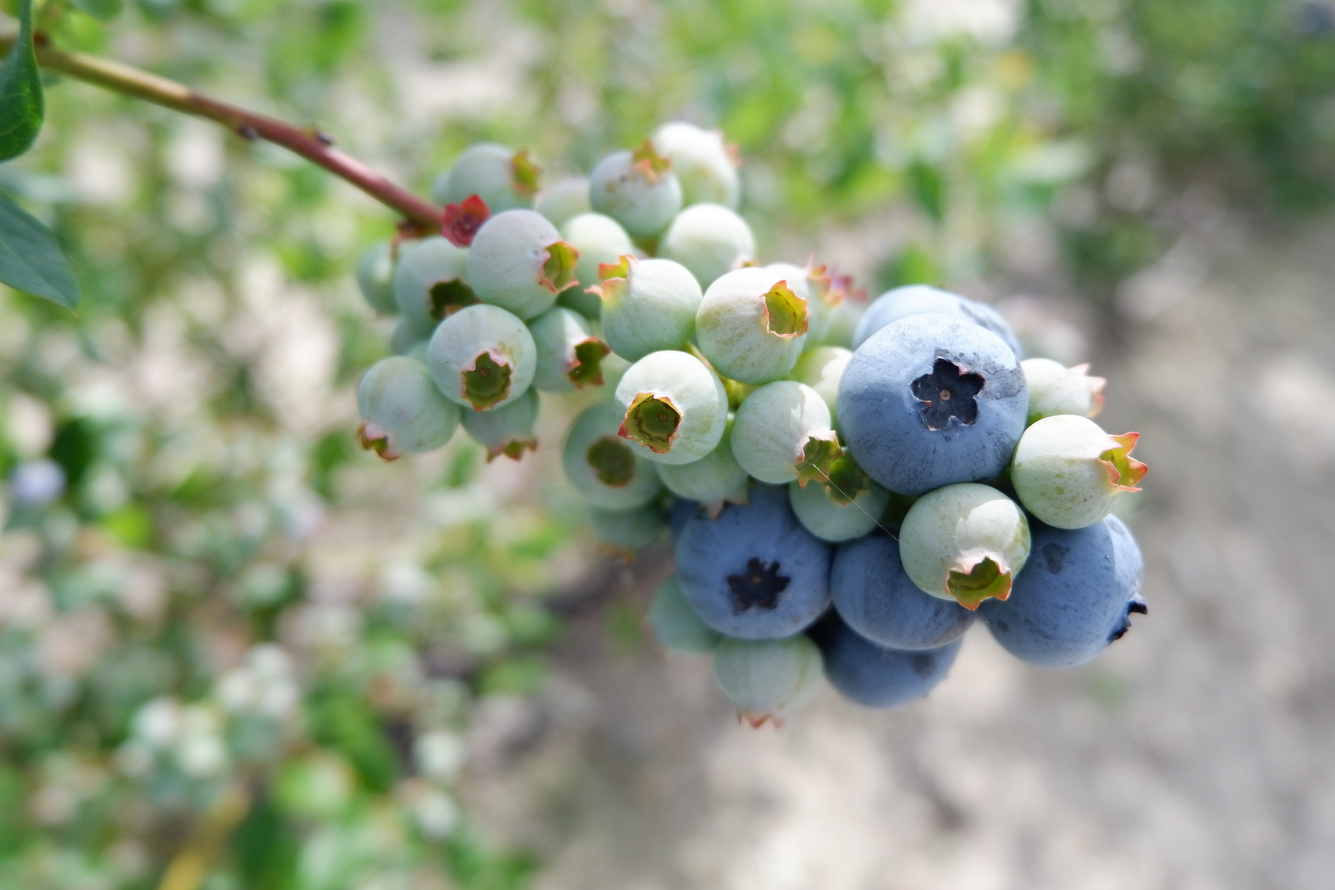Immature: (905, 487, 1029, 606), (1013, 416, 1141, 528), (697, 270, 812, 381), (617, 352, 726, 462), (470, 212, 574, 316), (428, 307, 534, 408), (597, 258, 699, 357), (733, 382, 832, 481), (358, 357, 455, 457), (564, 405, 656, 510), (716, 636, 822, 724), (792, 448, 891, 541), (658, 206, 755, 287), (648, 124, 740, 209), (395, 235, 479, 325), (590, 152, 679, 235), (661, 433, 750, 507), (529, 308, 606, 393), (441, 145, 538, 210), (643, 577, 718, 654), (560, 214, 634, 290), (765, 255, 828, 344), (462, 392, 537, 458), (1026, 360, 1105, 422), (809, 267, 867, 349), (793, 347, 849, 420), (591, 498, 665, 553), (357, 238, 399, 312), (535, 176, 591, 222), (442, 194, 490, 245), (390, 315, 429, 357)
Mature: (841, 305, 1024, 493), (674, 484, 834, 639), (984, 517, 1141, 665), (836, 534, 972, 650), (812, 609, 956, 705), (854, 287, 1006, 343)
